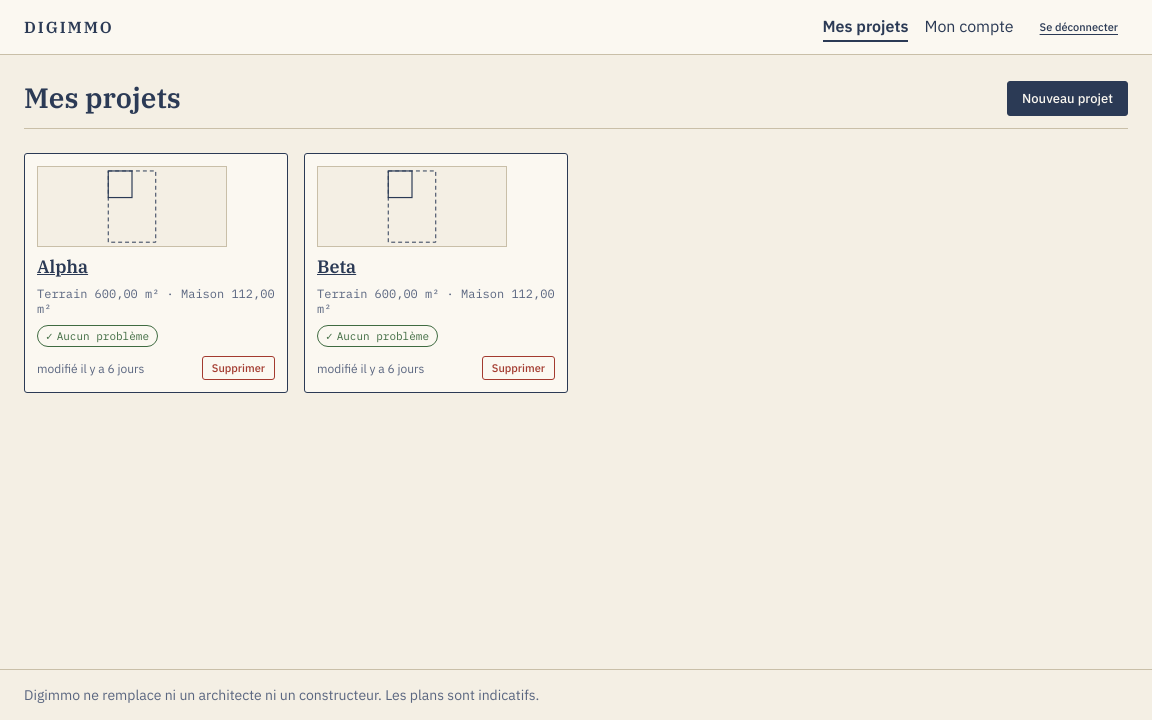
it: tableau de bord › confirmer : DELETE puis la carte disparaît
Click the button with aria-label "Supprimer Alpha" at (238, 368), box [202,356,275,380]
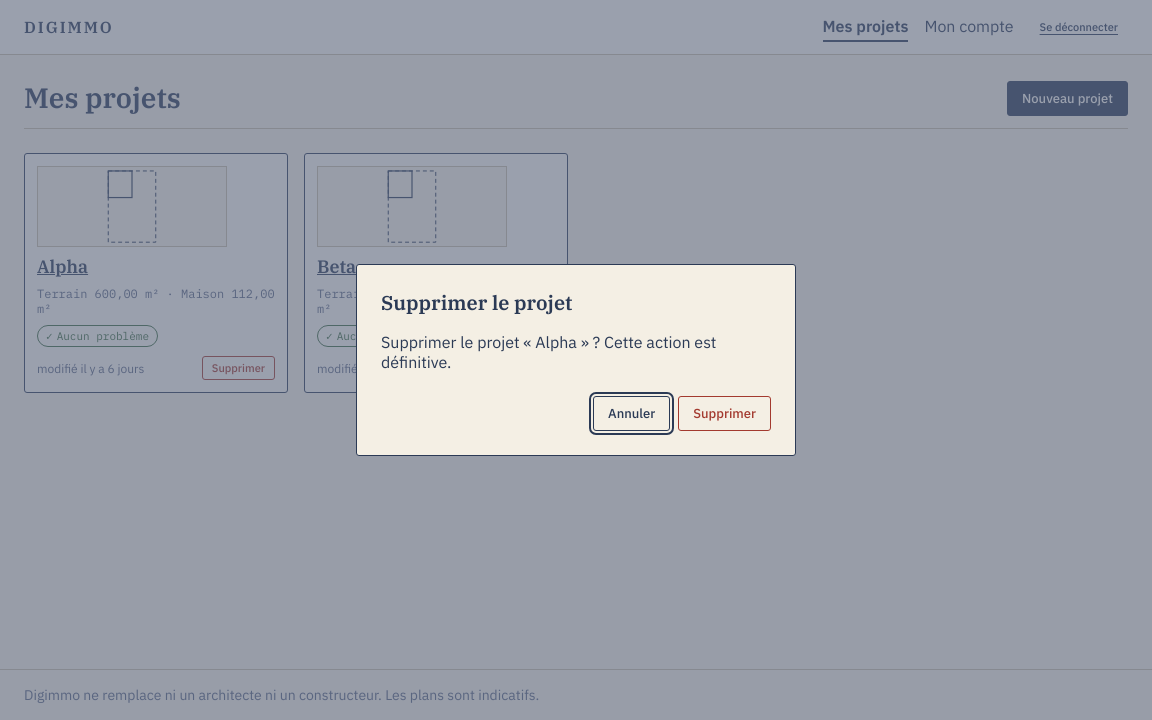
Click the button "Supprimer" at (725, 414), box [678,396,771,431]
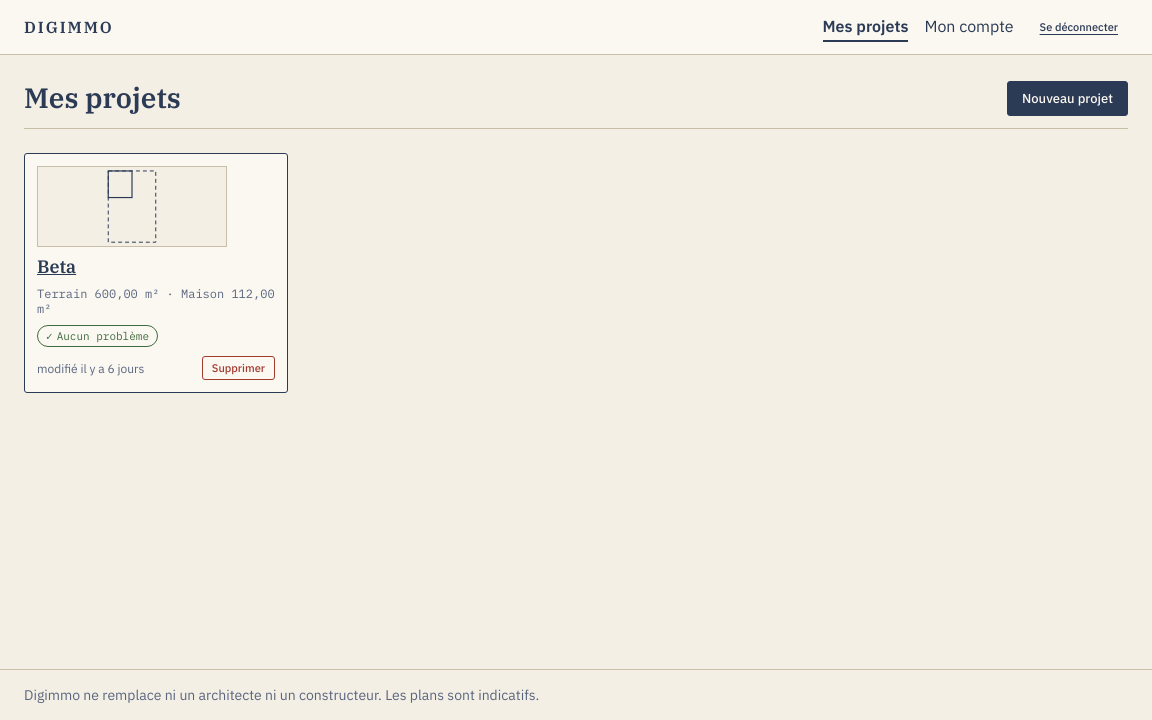
expect the link "Beta" is shown: met, box [37,255,76,278]
expect the link "Alpha" is gone: met
